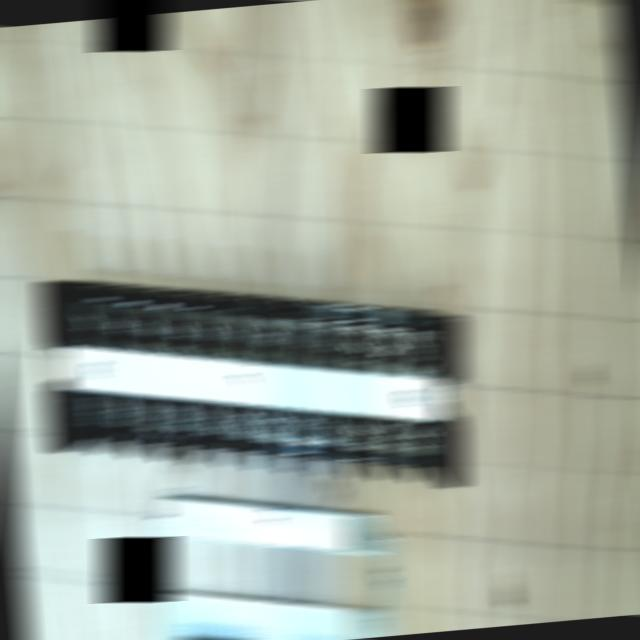Phillips_Block: (23, 281, 480, 486)
